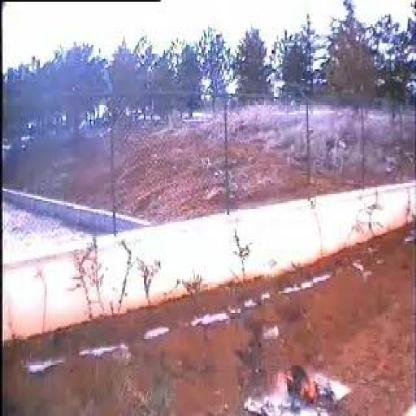-: (269, 392, 290, 414)
